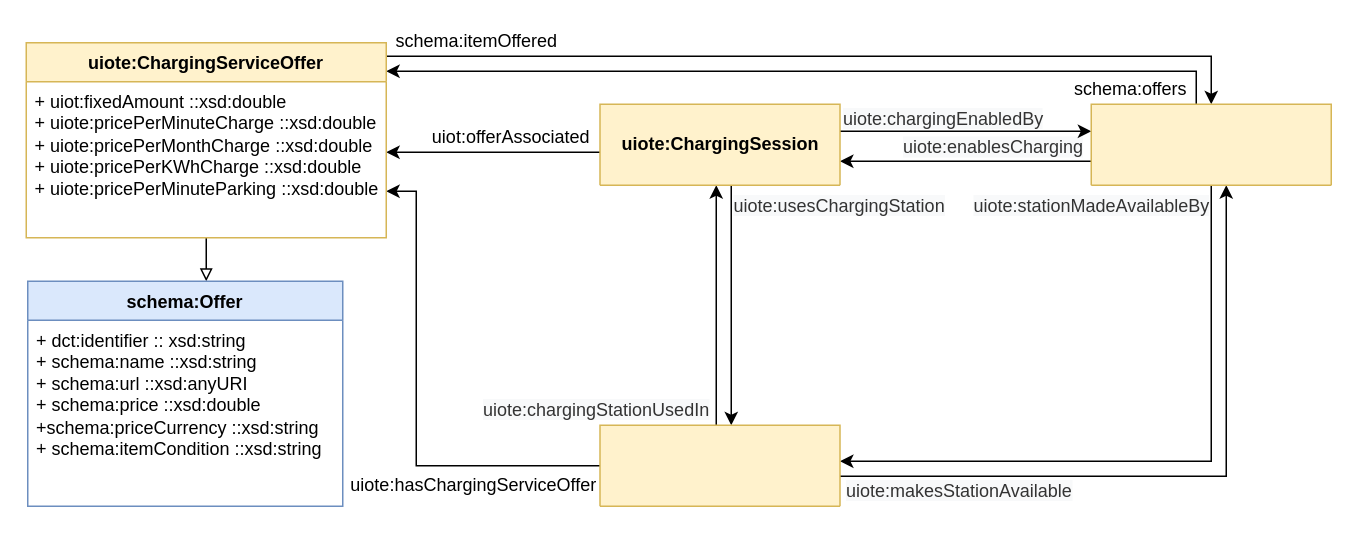
The diagram is 1358 pixels wide and 540 high, and some of its shapes have lost their labels. The centre of each missing label's shape, as x and y in pixels:
uiote:ChargingService: [1210,144]
uiote:ChargingStation: [719,465]
